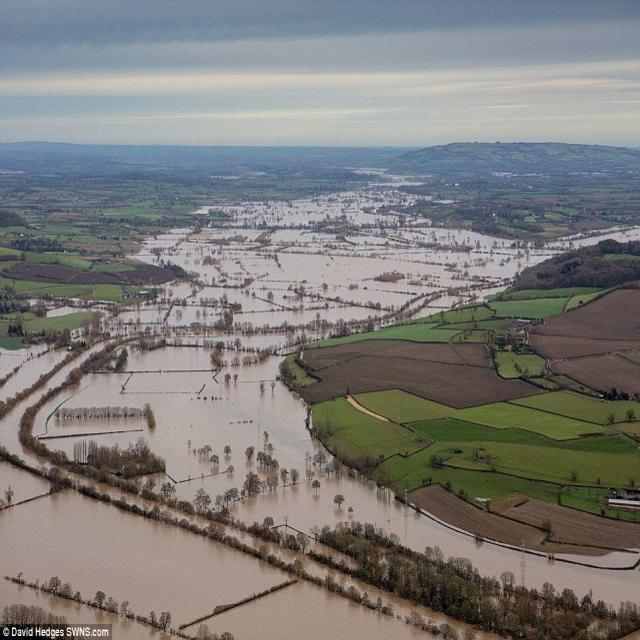flooded_areas: (4, 329, 313, 639), (156, 164, 640, 316), (300, 436, 639, 639)
